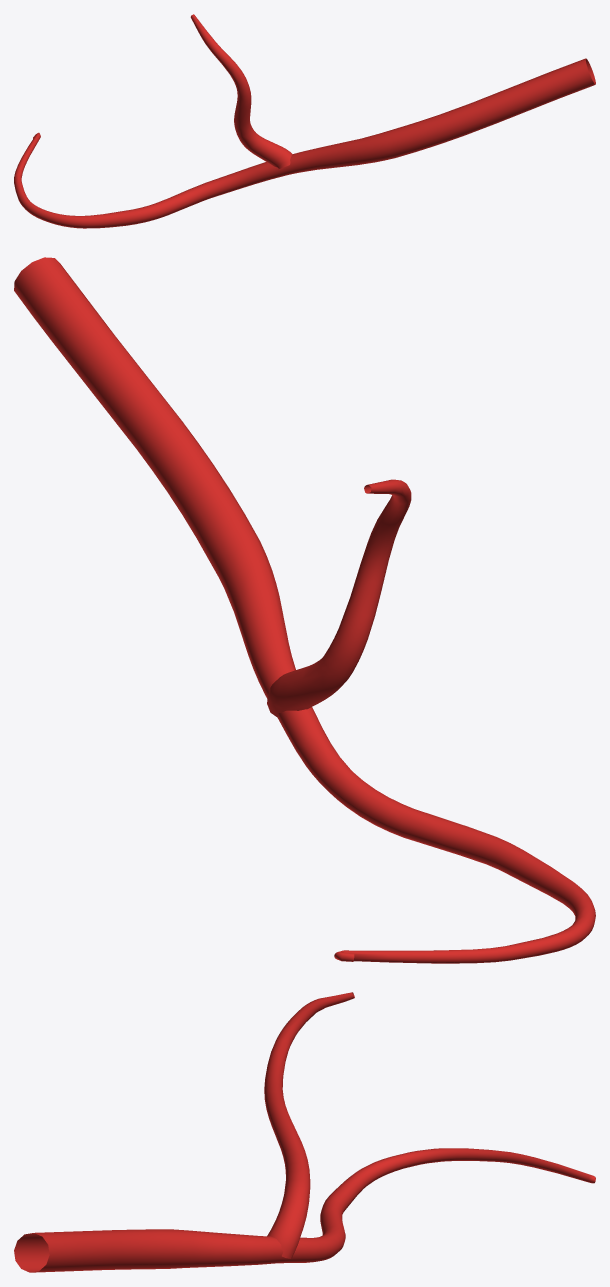
Rendered from circulatorio-lateral-circumflex-femoral-veins-r.glb.
The picture shows the model from 3 angles, top to bottom: view 1: azimuth 30°, elevation 25°; view 2: azimuth 150°, elevation 25°; view 3: azimuth 270°, elevation 25°; orthographic projection. The views are drawn at different scales.
Parts seen in each view (by area): view 1: Lateral circumflex femoral veins.r; view 2: Lateral circumflex femoral veins.r; view 3: Lateral circumflex femoral veins.r.
Part boxes in pixels (x1,y1,x2,y2): Lateral circumflex femoral veins.r: [14, 14, 595, 228]; Lateral circumflex femoral veins.r: [14, 257, 595, 963]; Lateral circumflex femoral veins.r: [14, 992, 595, 1272].
Bounding box in the file's own units: 0.1058 × 0.0445 × 0.087.
